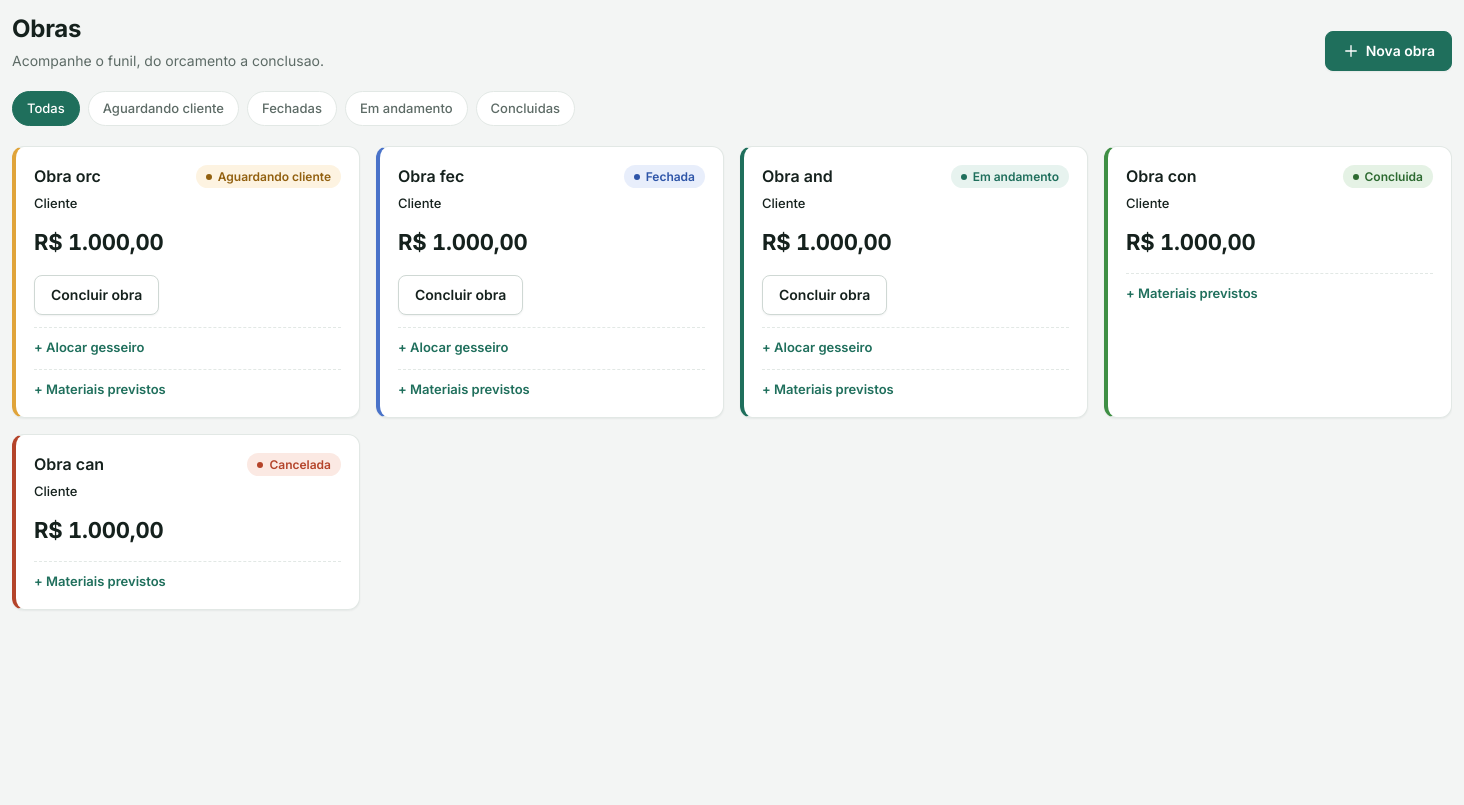
Test: Obras › abre o editor com os itens atuais nos 3 status editáveis (EAP-43)
Expected: the heading "Obra orc" is shown, x1=34 y1=165 x2=101 y2=188
Click the heading "Materiais previstos" below "Obra orc".
click(106, 389)  # box x1=46 y1=381 x2=166 y2=397
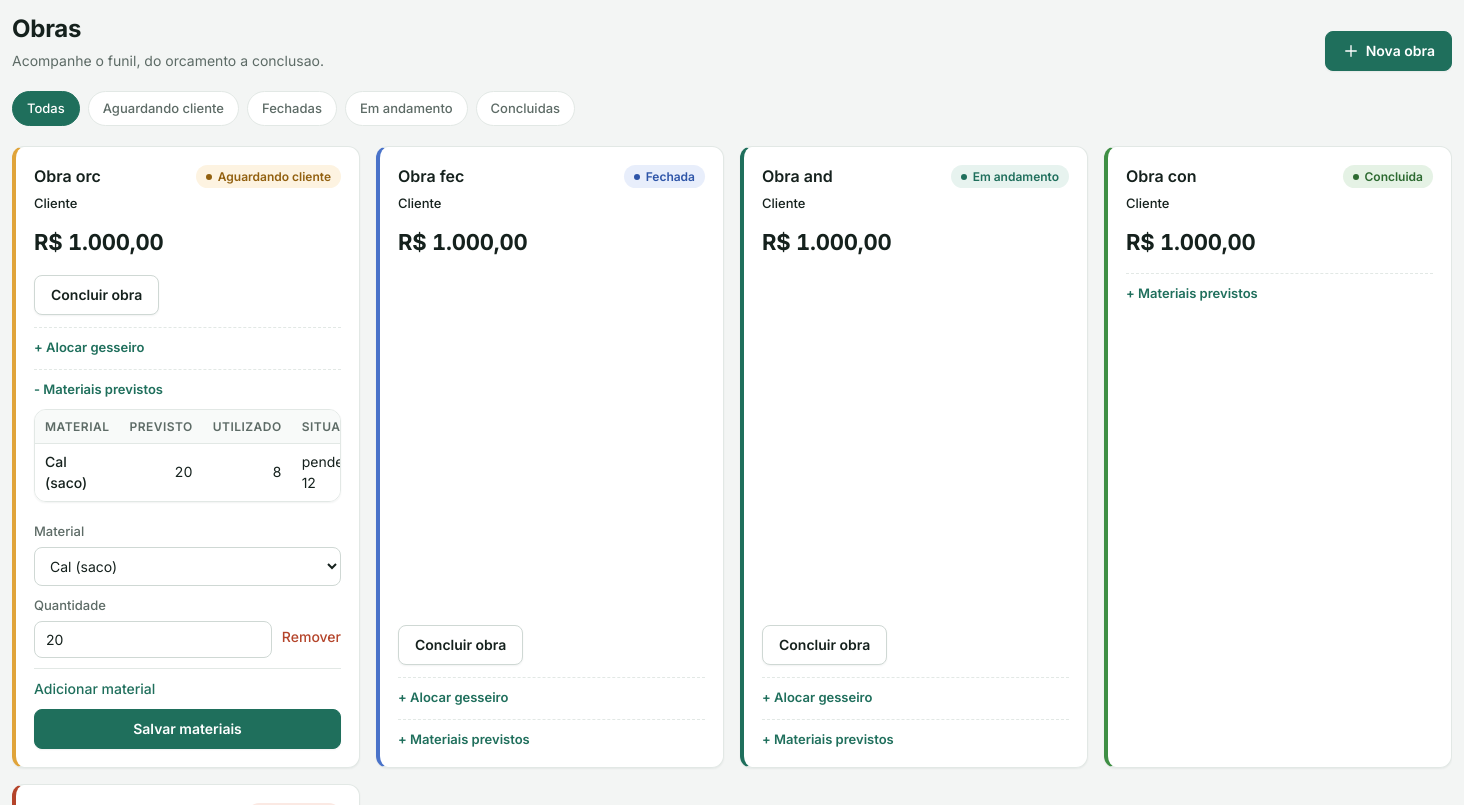
Expected: the dropdown labelled "Material" shows "Cal (saco)", x1=34 y1=547 x2=341 y2=586
Expected: the number field labelled "Quantidade" holds "20", x1=34 y1=620 x2=272 y2=658
Expected: the button "Salvar materiais" is shown, x1=34 y1=709 x2=341 y2=749
Click the 3rd heading "Materiais previstos".
click(470, 739)  # box x1=410 y1=731 x2=530 y2=747
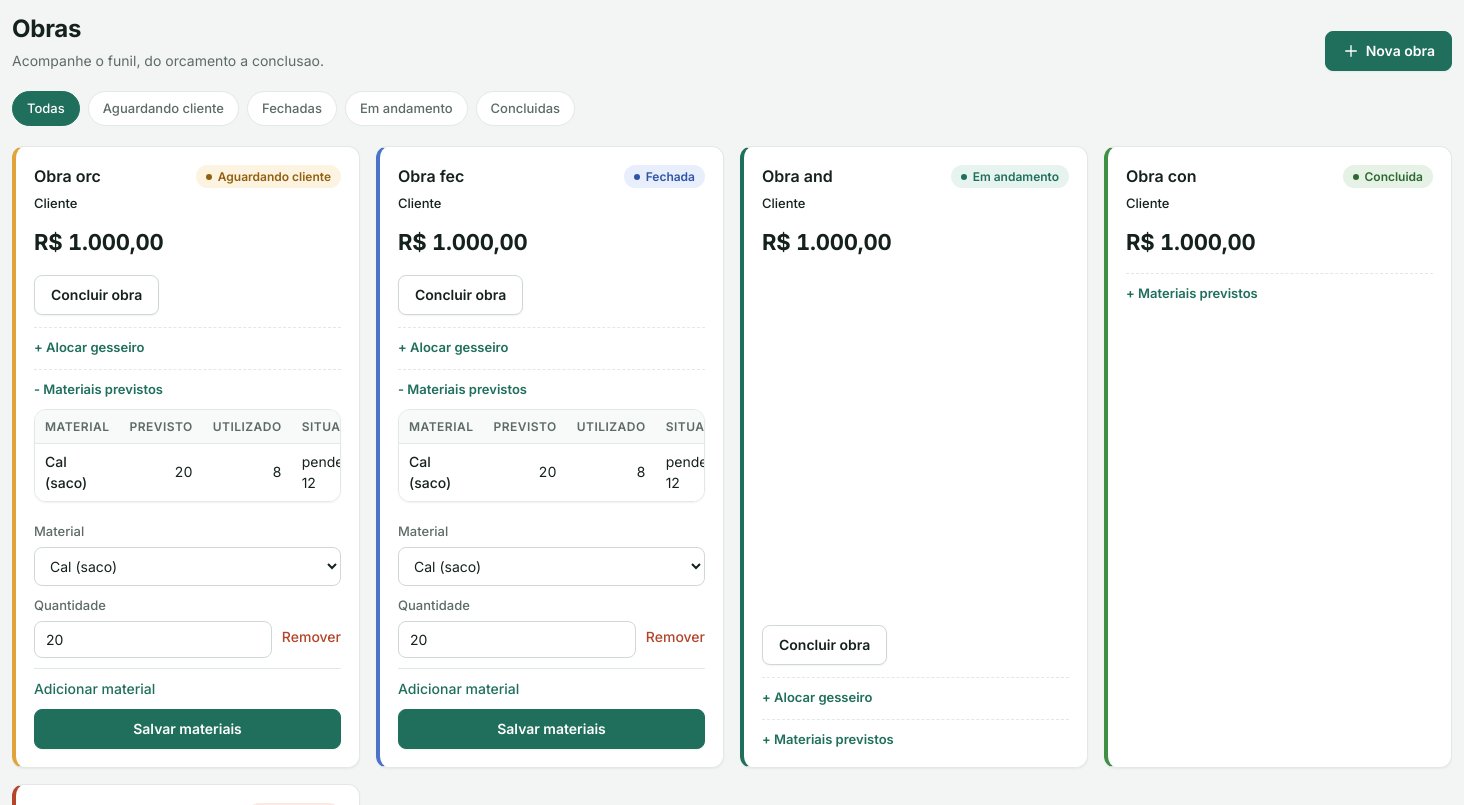
Expected: the 2nd dropdown labelled "Material" shows "Cal (saco)", x1=398 y1=547 x2=705 y2=586
Expected: the 2nd number field labelled "Quantidade" holds "20", x1=398 y1=620 x2=636 y2=658
Expected: the 2nd button "Salvar materiais" is shown, x1=398 y1=709 x2=705 y2=749
Click the 4th heading "Materiais previstos".
click(834, 739)  # box x1=774 y1=731 x2=894 y2=747
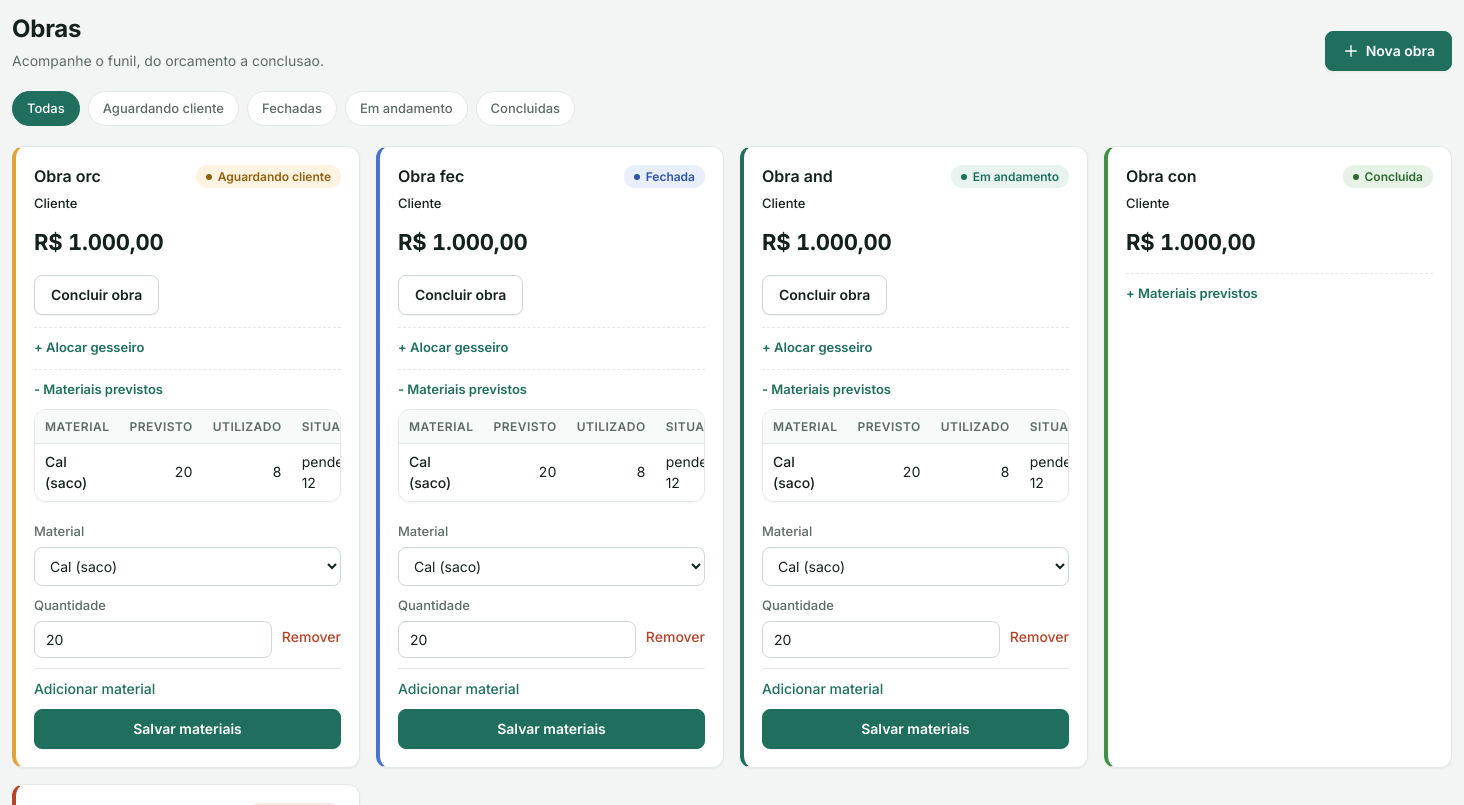
Expected: the 3rd dropdown labelled "Material" shows "Cal (saco)", x1=762 y1=547 x2=1069 y2=586
Expected: the 3rd number field labelled "Quantidade" holds "20", x1=762 y1=620 x2=1000 y2=658
Expected: the 3rd button "Salvar materiais" is shown, x1=762 y1=709 x2=1069 y2=749
